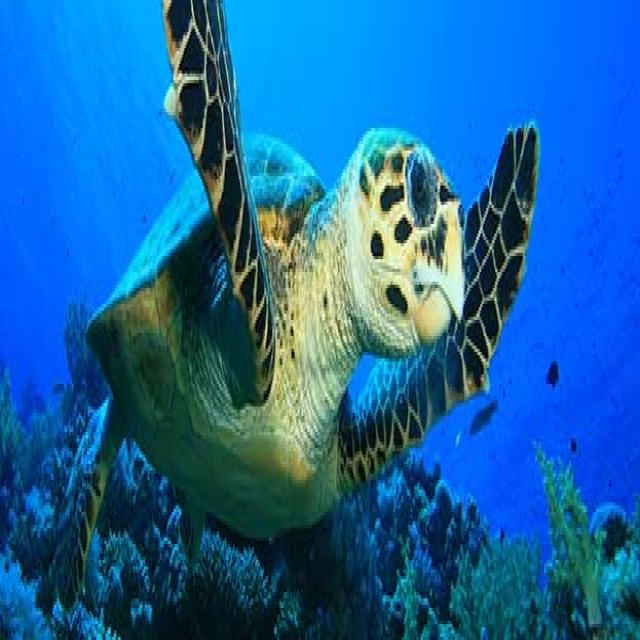sea turtle: (61, 0, 548, 619), (145, 0, 295, 450), (322, 102, 476, 362)
